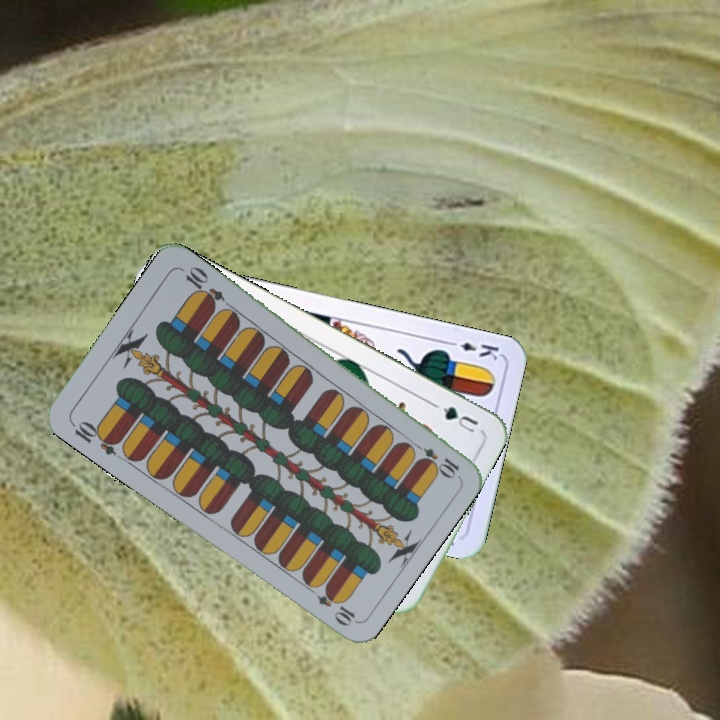E10: (67, 416, 123, 458), (407, 438, 462, 480)
EK: (443, 336, 502, 363)
GU: (429, 399, 481, 436)
